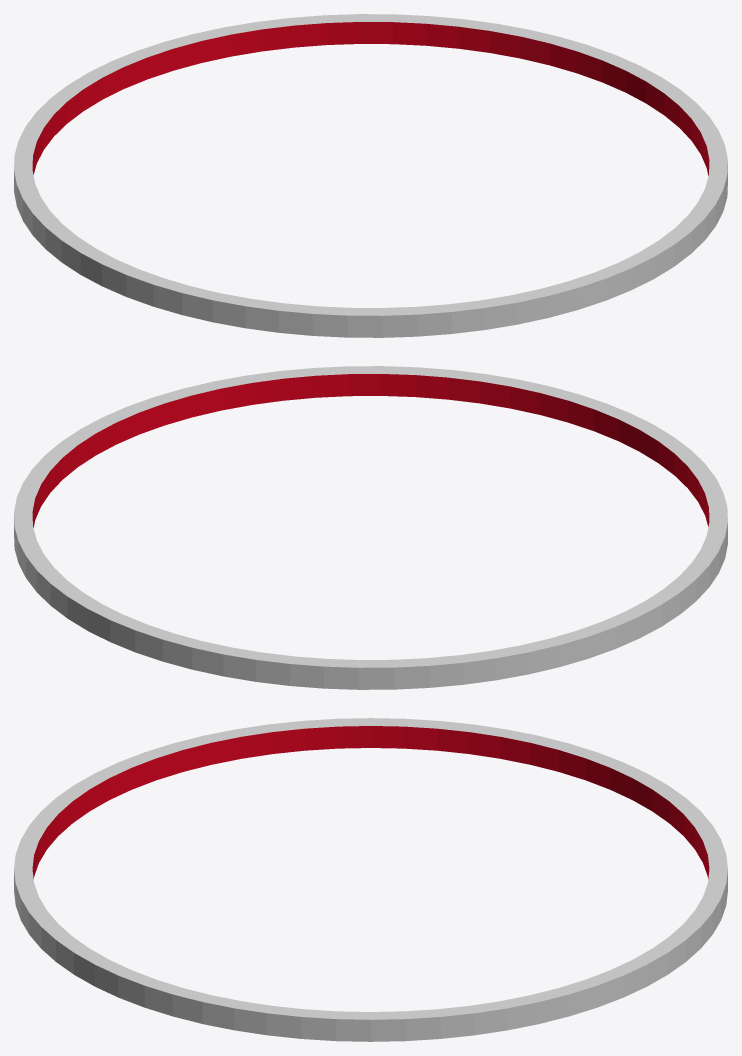
File: Ring.fbx
The picture shows the model from 3 angles, top to bottom: view 1: azimuth 30°, elevation 25°; view 2: azimuth 150°, elevation 25°; view 3: azimuth 270°, elevation 25°; orthographic projection.
Visible parts, largest first — view 1: Cylinder.001; view 2: Cylinder.001; view 3: Cylinder.001.
Boxes of the visible parts, x1=… form: Cylinder.001: x1=14, y1=14, x2=727, y2=337; Cylinder.001: x1=14, y1=366, x2=727, y2=689; Cylinder.001: x1=14, y1=718, x2=727, y2=1041.
Size of the model in its own units: 412 by 14.02 by 412.
